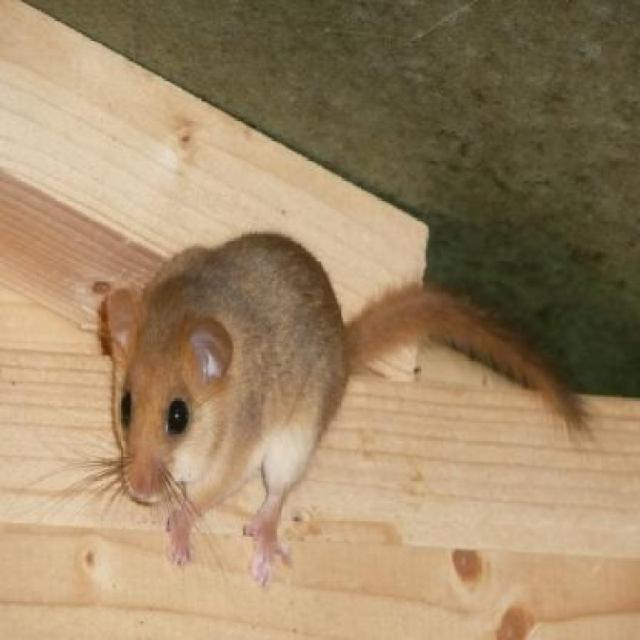Mouse: (78, 223, 357, 592)
